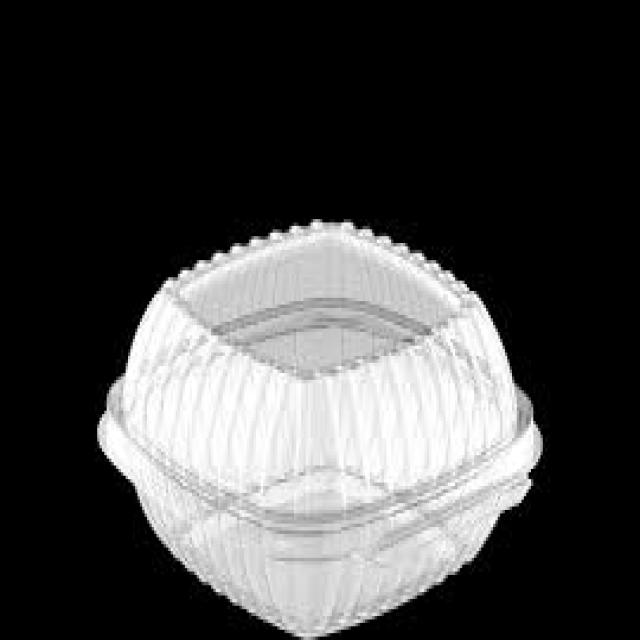disposable: (104, 222, 562, 640)
